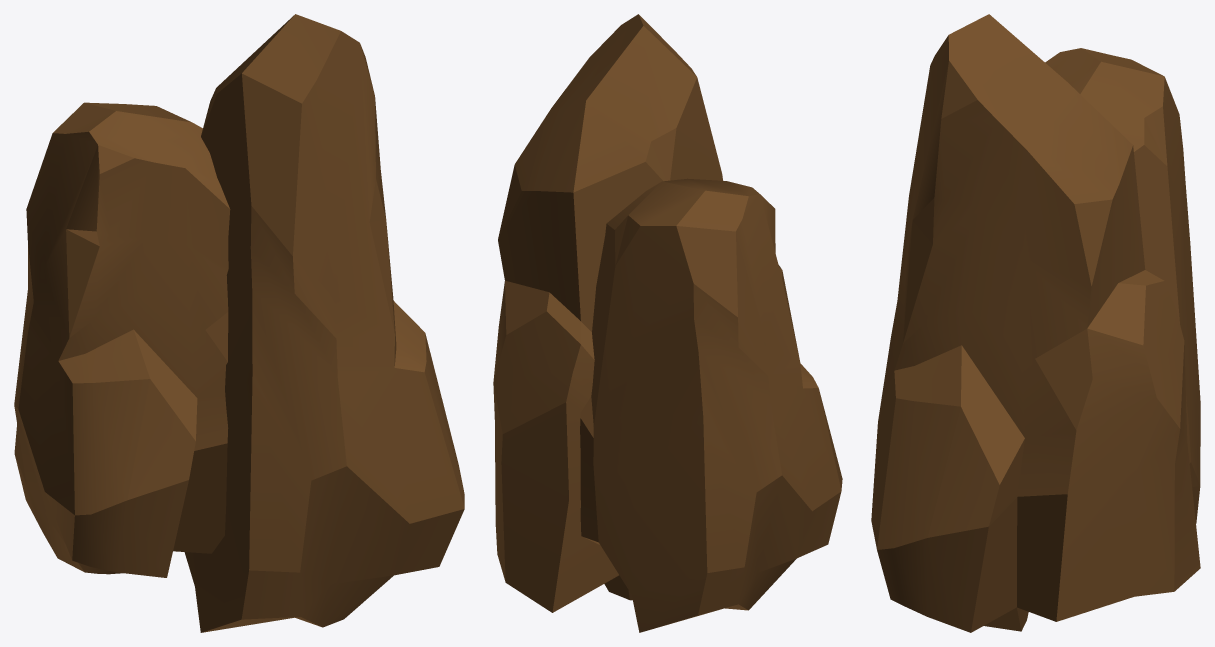
Rendered from quaternius-ultimate-space-pack-rock-4-transformed.glb.
3 renders of one model, left to right at view 1: azimuth 30°, elevation 25°; view 2: azimuth 150°, elevation 25°; view 3: azimuth 270°, elevation 25°, orthographic. The views are drawn at different scales.
Parts seen in each view (by area): view 1: Rock_4; view 2: Rock_4; view 3: Rock_4.
Part boxes in pixels (x1,y1,x2,y2): Rock_4: (14, 14, 464, 632); Rock_4: (493, 14, 842, 632); Rock_4: (871, 14, 1200, 632).
Bounding box in the file's own units: 2.16 × 3.46 × 1.7.
Materials: 1 (1 with a texture image).
